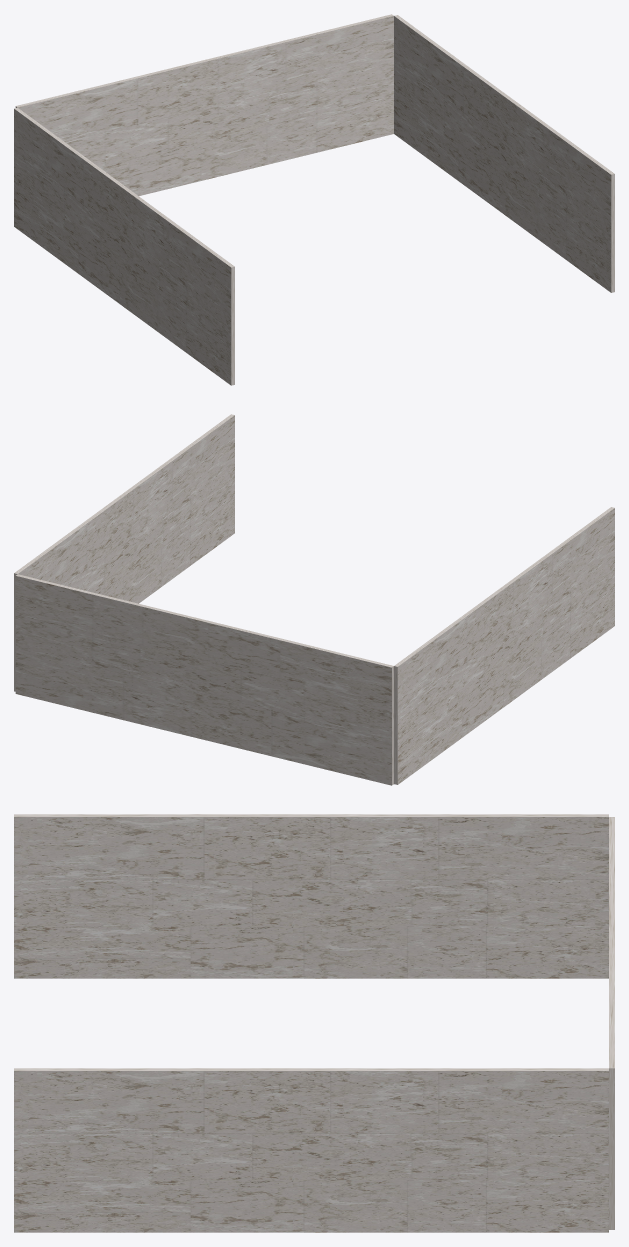
The model's file is Wall.glb.
3 renders of one model, top to bottom at view 1: azimuth 30°, elevation 25°; view 2: azimuth 150°, elevation 25°; view 3: azimuth 270°, elevation 25°, orthographic. The views are drawn at different scales.
Parts seen in each view (by area): view 1: WallBack, WallLeft, WallRight; view 2: WallBack, WallLeft, WallRight; view 3: WallLeft, WallRight, WallBack.
Boxes of the visible parts, x1,y1,x2,y2 form: WallBack: [15, 14, 393, 195]; WallLeft: [14, 107, 234, 385]; WallRight: [394, 15, 614, 292]; WallBack: [15, 574, 393, 785]; WallLeft: [394, 507, 614, 784]; WallRight: [14, 414, 234, 691]; WallLeft: [14, 814, 608, 978]; WallRight: [14, 1068, 608, 1232]; WallBack: [609, 817, 614, 1229].
Bounding box in the file's own units: 10.2 × 3 × 10.1.
1 material, 1 textured.
